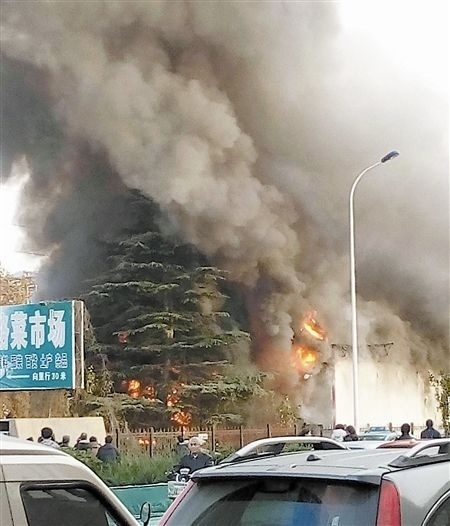fire: (126, 372, 191, 428), (289, 313, 324, 372)
